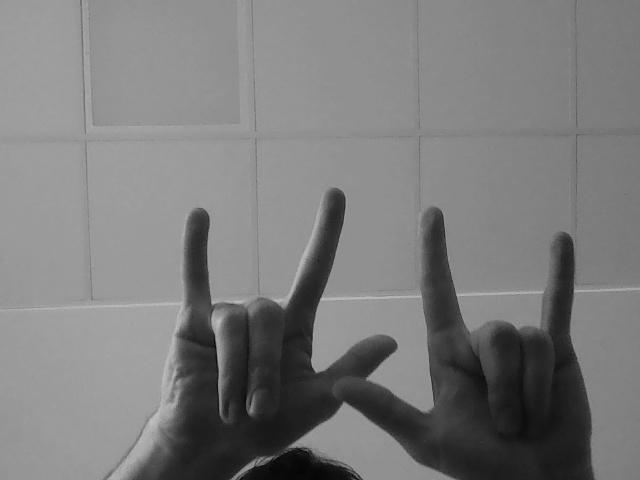I_Love_You: (380, 208, 640, 464), (150, 208, 414, 452)
